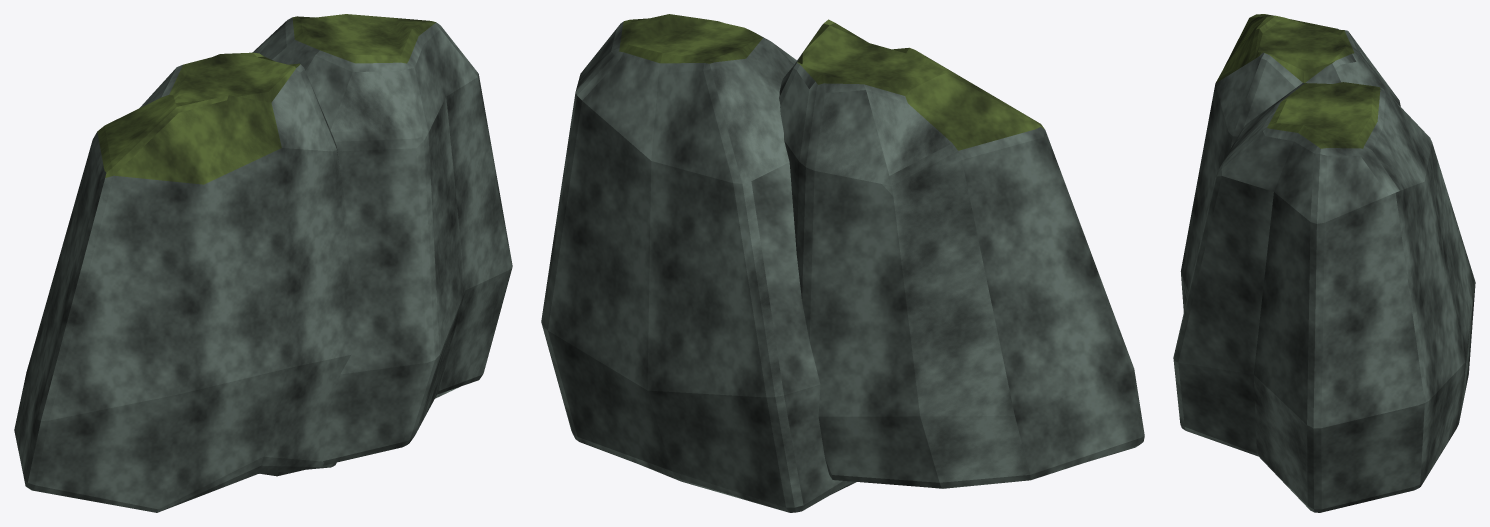
The model's file is rock_2.glb.
The picture shows the model from 3 angles, left to right: view 1: azimuth 30°, elevation 25°; view 2: azimuth 150°, elevation 25°; view 3: azimuth 270°, elevation 25°; orthographic projection. The views are drawn at different scales.
Parts seen in each view (by area): view 1: rock_2Mesh; view 2: rock_2Mesh; view 3: rock_2Mesh.
Boxes of the visible parts, left/top/right/bottom form: rock_2Mesh: left=14, top=14, right=512, bottom=512; rock_2Mesh: left=541, top=14, right=1144, bottom=512; rock_2Mesh: left=1173, top=14, right=1475, bottom=512.
Bounding box in the file's own units: 3.33 × 2.34 × 1.75.
Materials: 2 (2 with a texture image).
